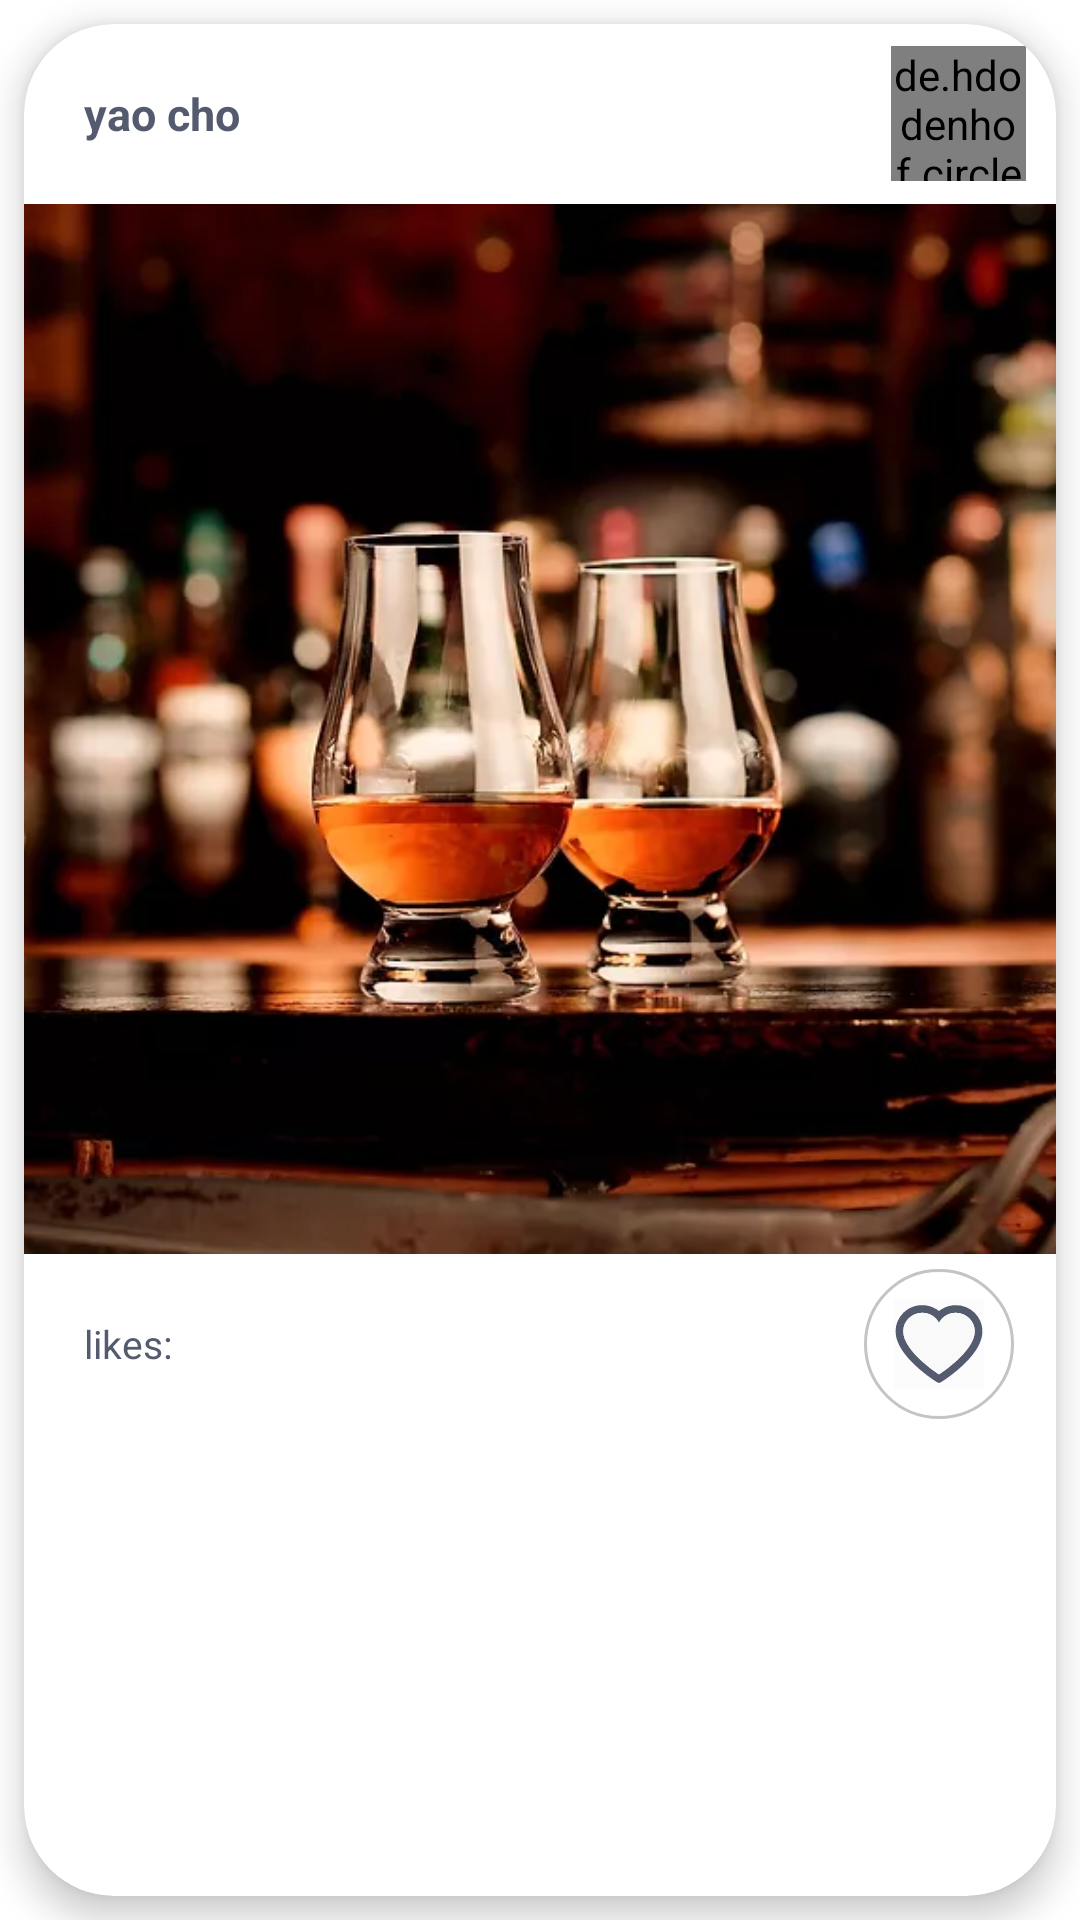

Icons on this 1080*1920 Android screen, each with its box as (x1, y1, x2, y2):
not like: (864, 1269, 1014, 1419)
